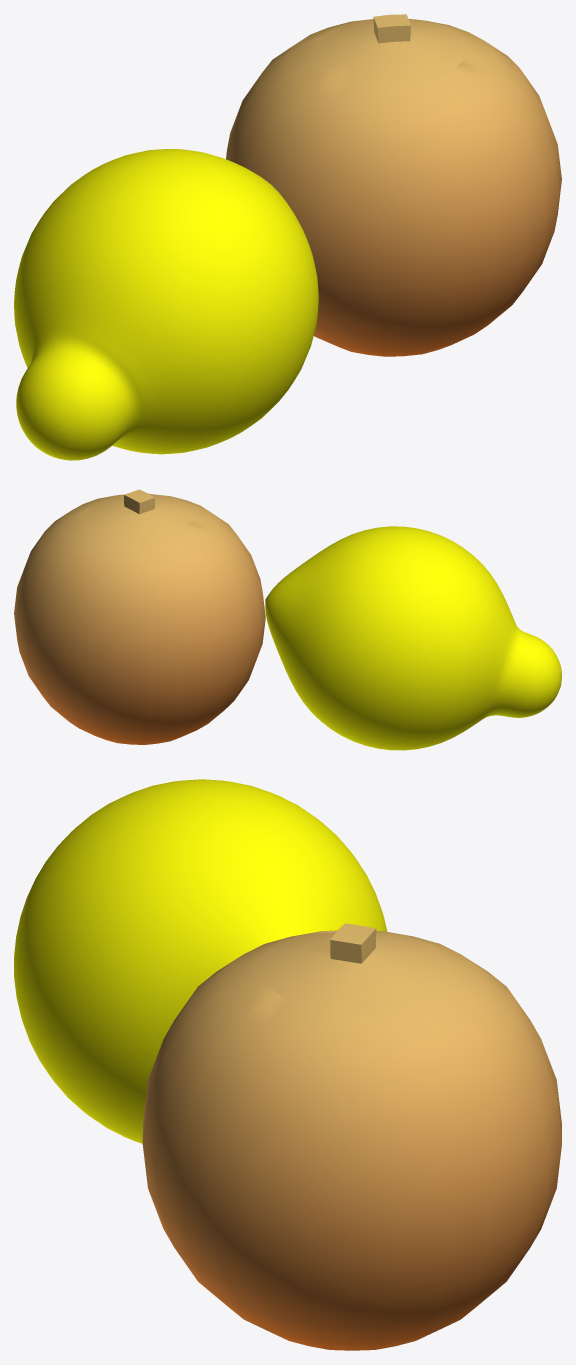
The model's file is orange32.glb.
The picture shows the model from 3 angles, top to bottom: view 1: azimuth 30°, elevation 25°; view 2: azimuth 150°, elevation 25°; view 3: azimuth 270°, elevation 25°; orthographic projection. The views are drawn at different scales.
Bounding box in the file's own units: 0.6304 × 0.3171 × 0.3932.
